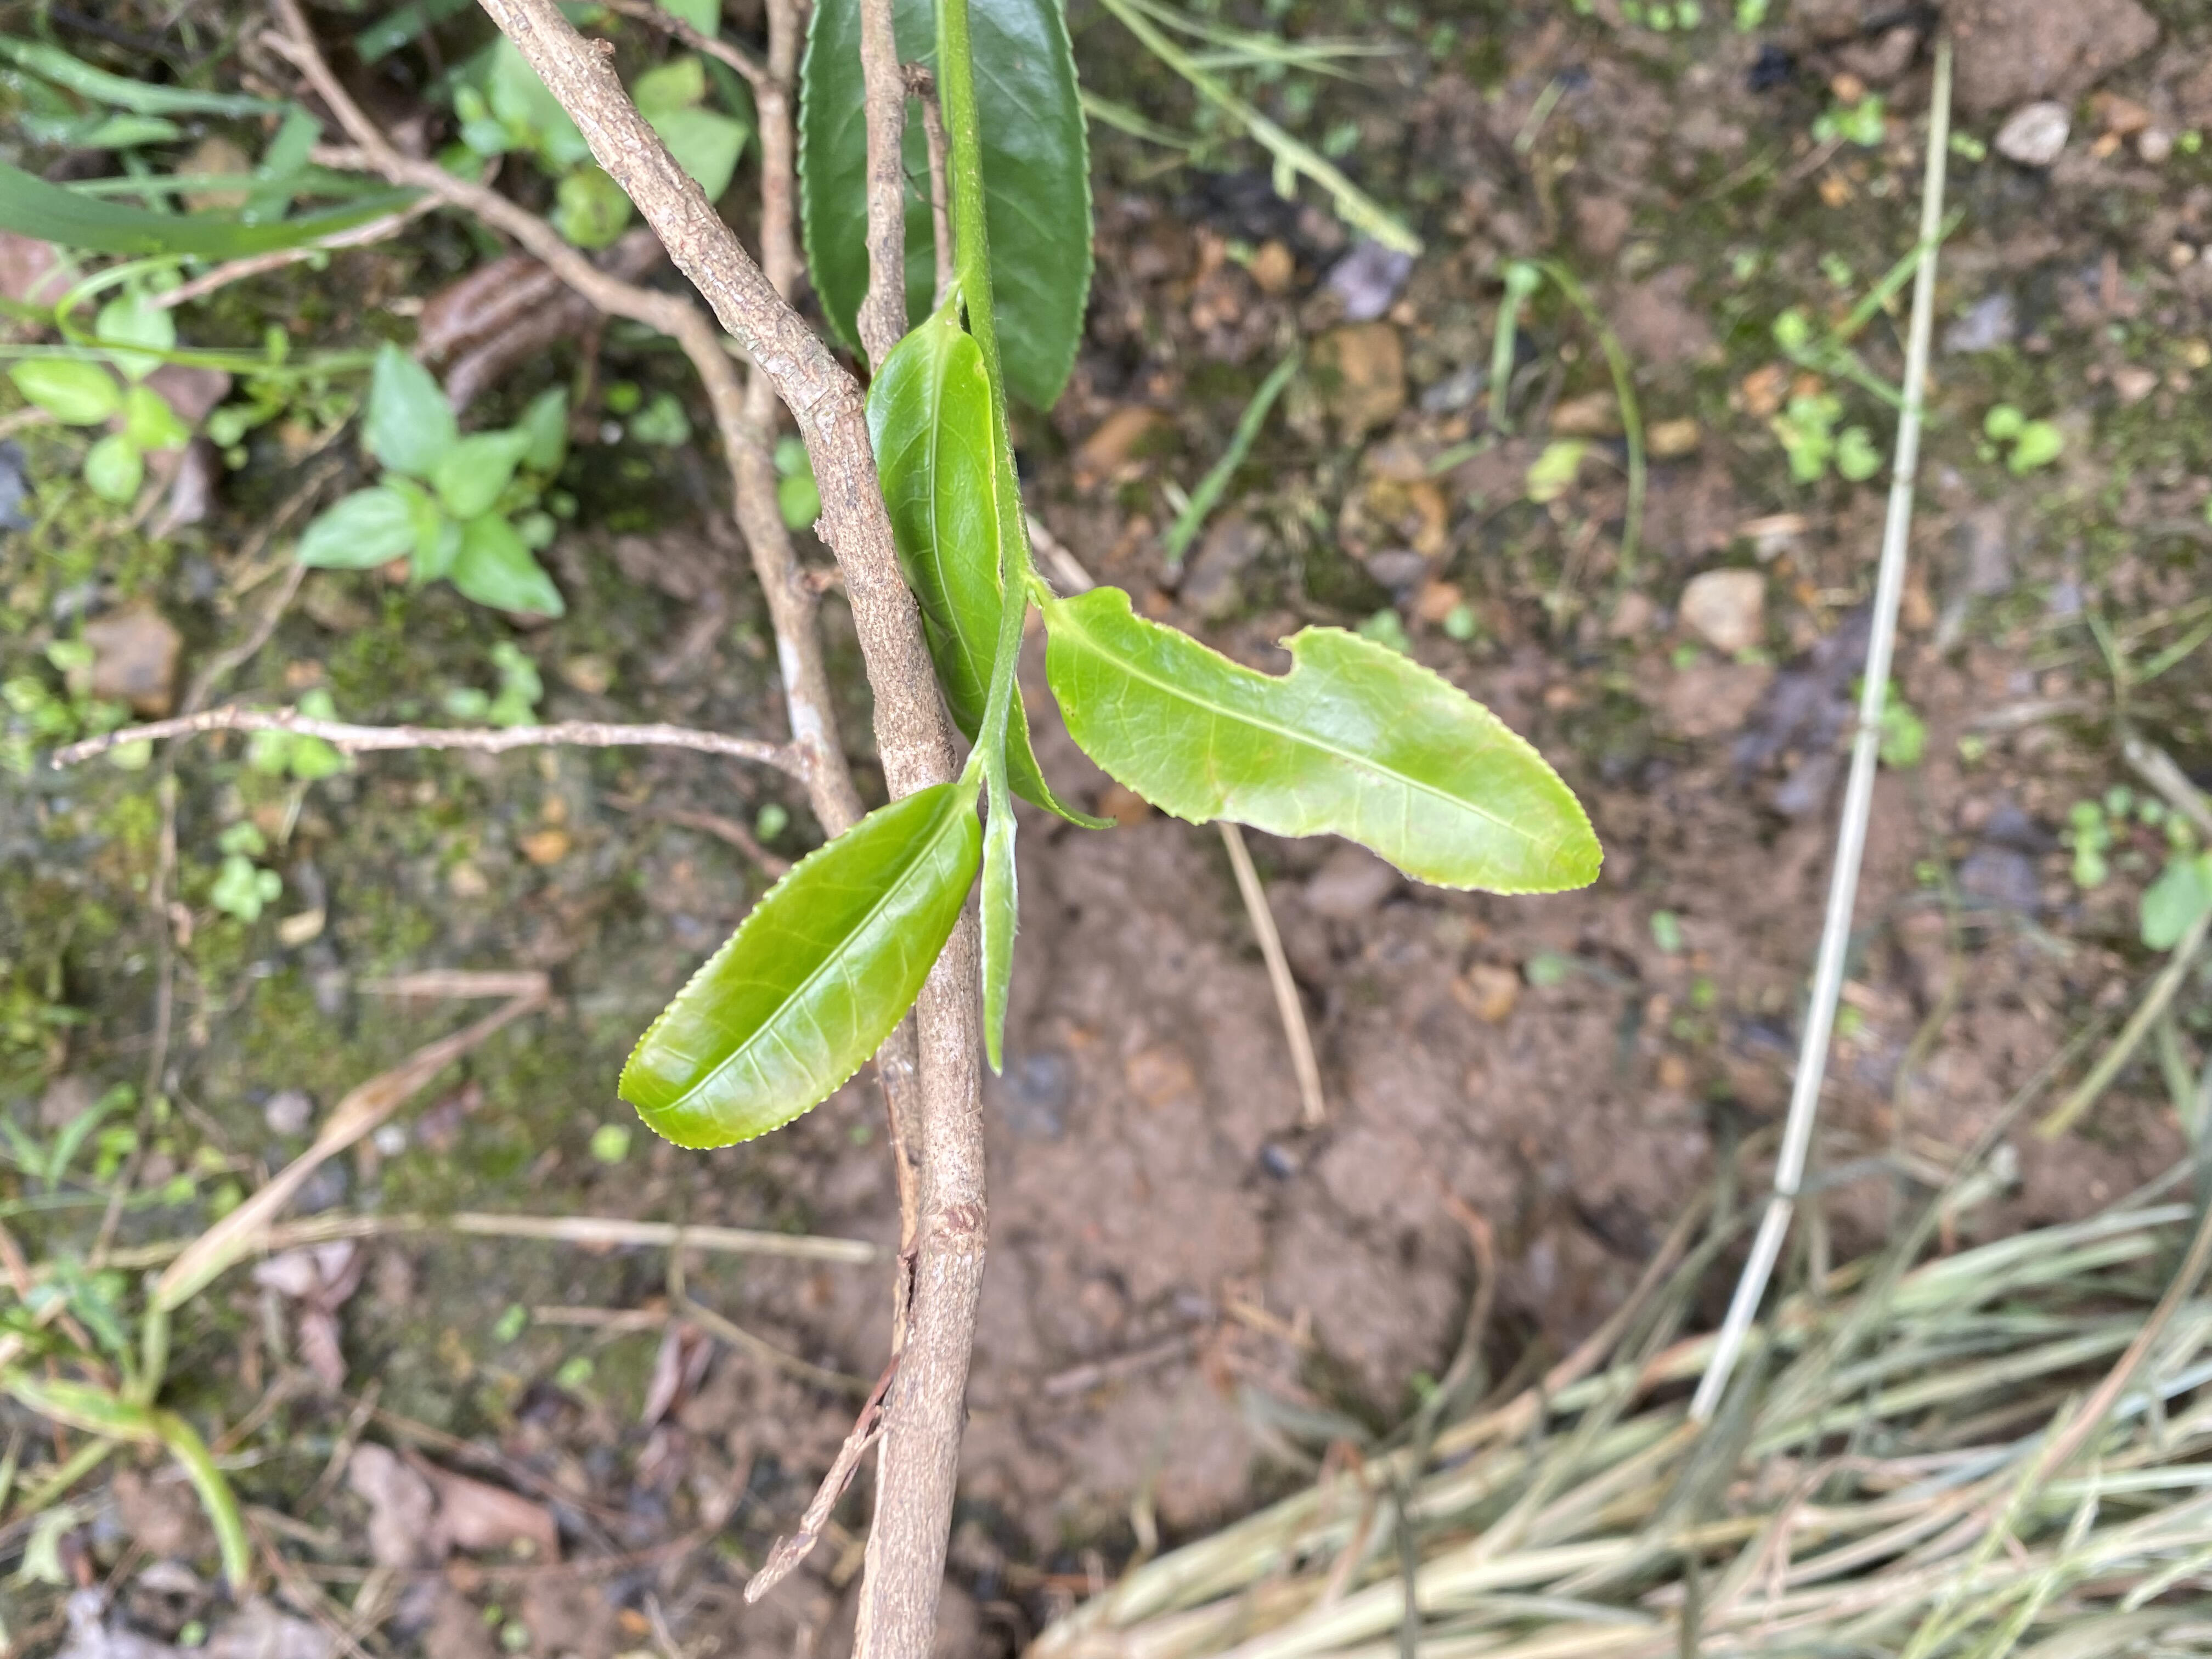chihuo_high: (1043, 586, 1604, 901)
healthy: (620, 781, 977, 1152), (864, 312, 1116, 831)
